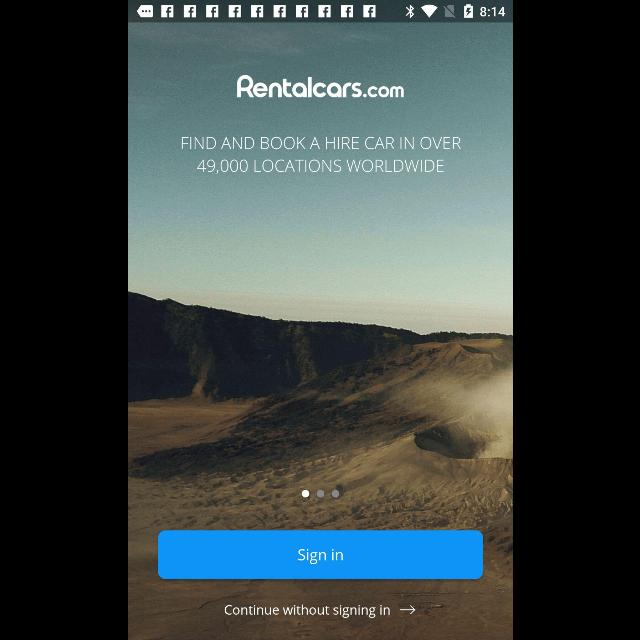backgroundimage: (128, 22, 512, 640)
icon: (399, 606, 415, 614)
pageindicator: (301, 489, 339, 498)
text: (181, 136, 461, 174), (236, 75, 404, 99), (224, 604, 388, 618)
textbutton: (158, 530, 482, 580)
uppertaskbar: (128, 1, 512, 23)
